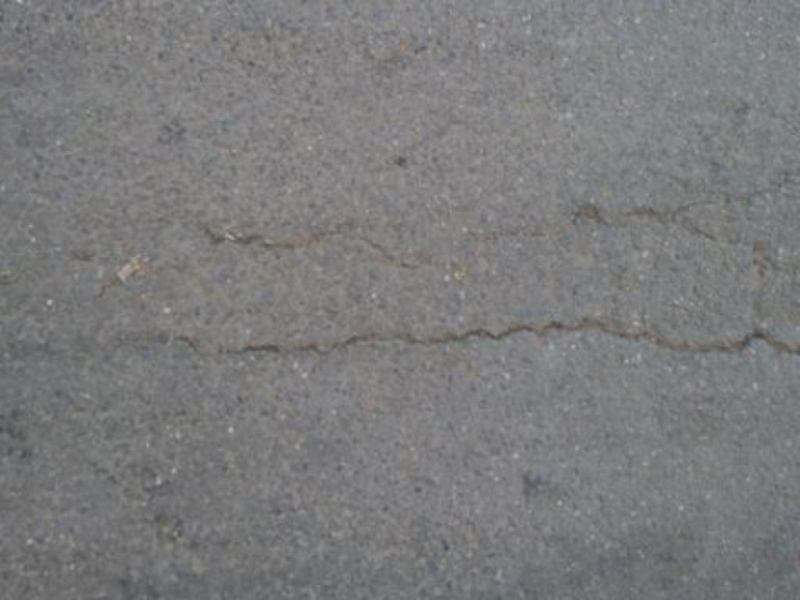crack: (166, 310, 787, 387), (568, 191, 788, 273), (209, 226, 415, 277)
